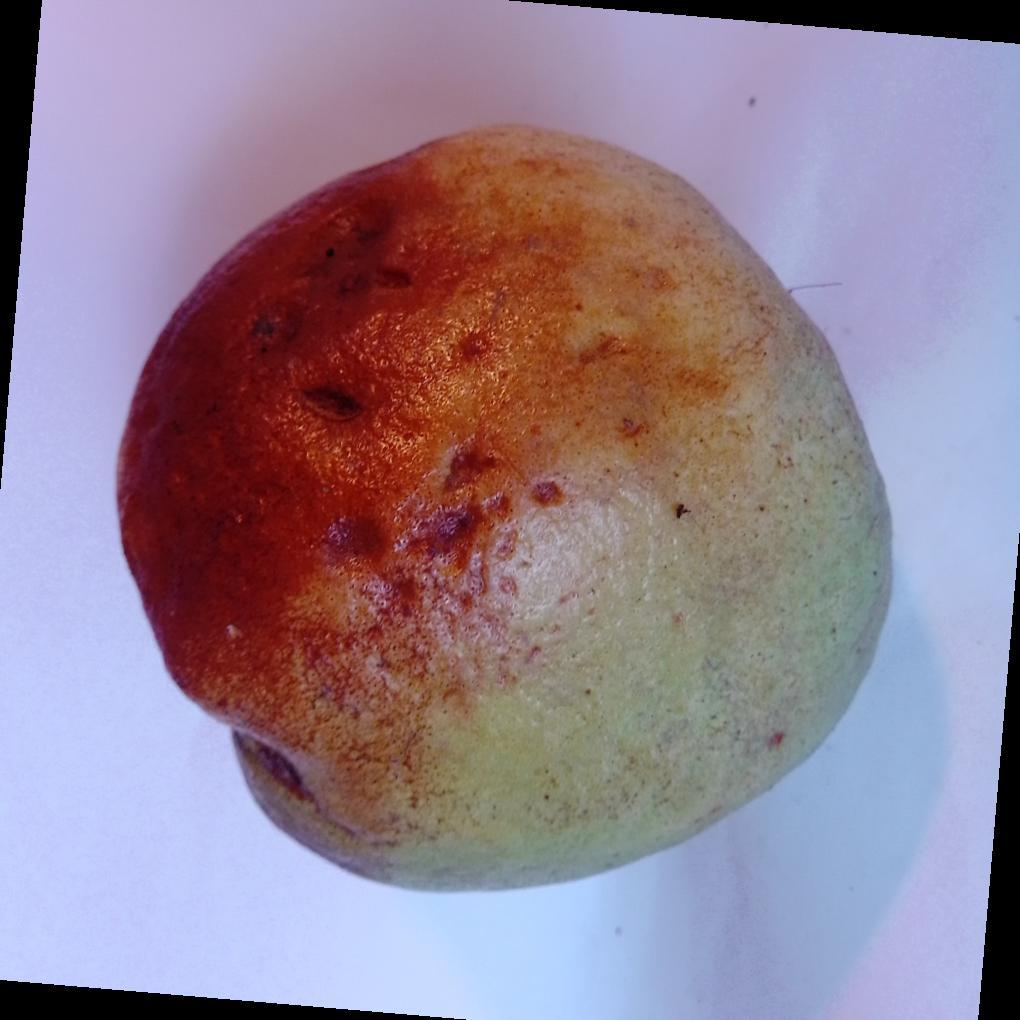FreshOrange: (113, 123, 895, 897)
